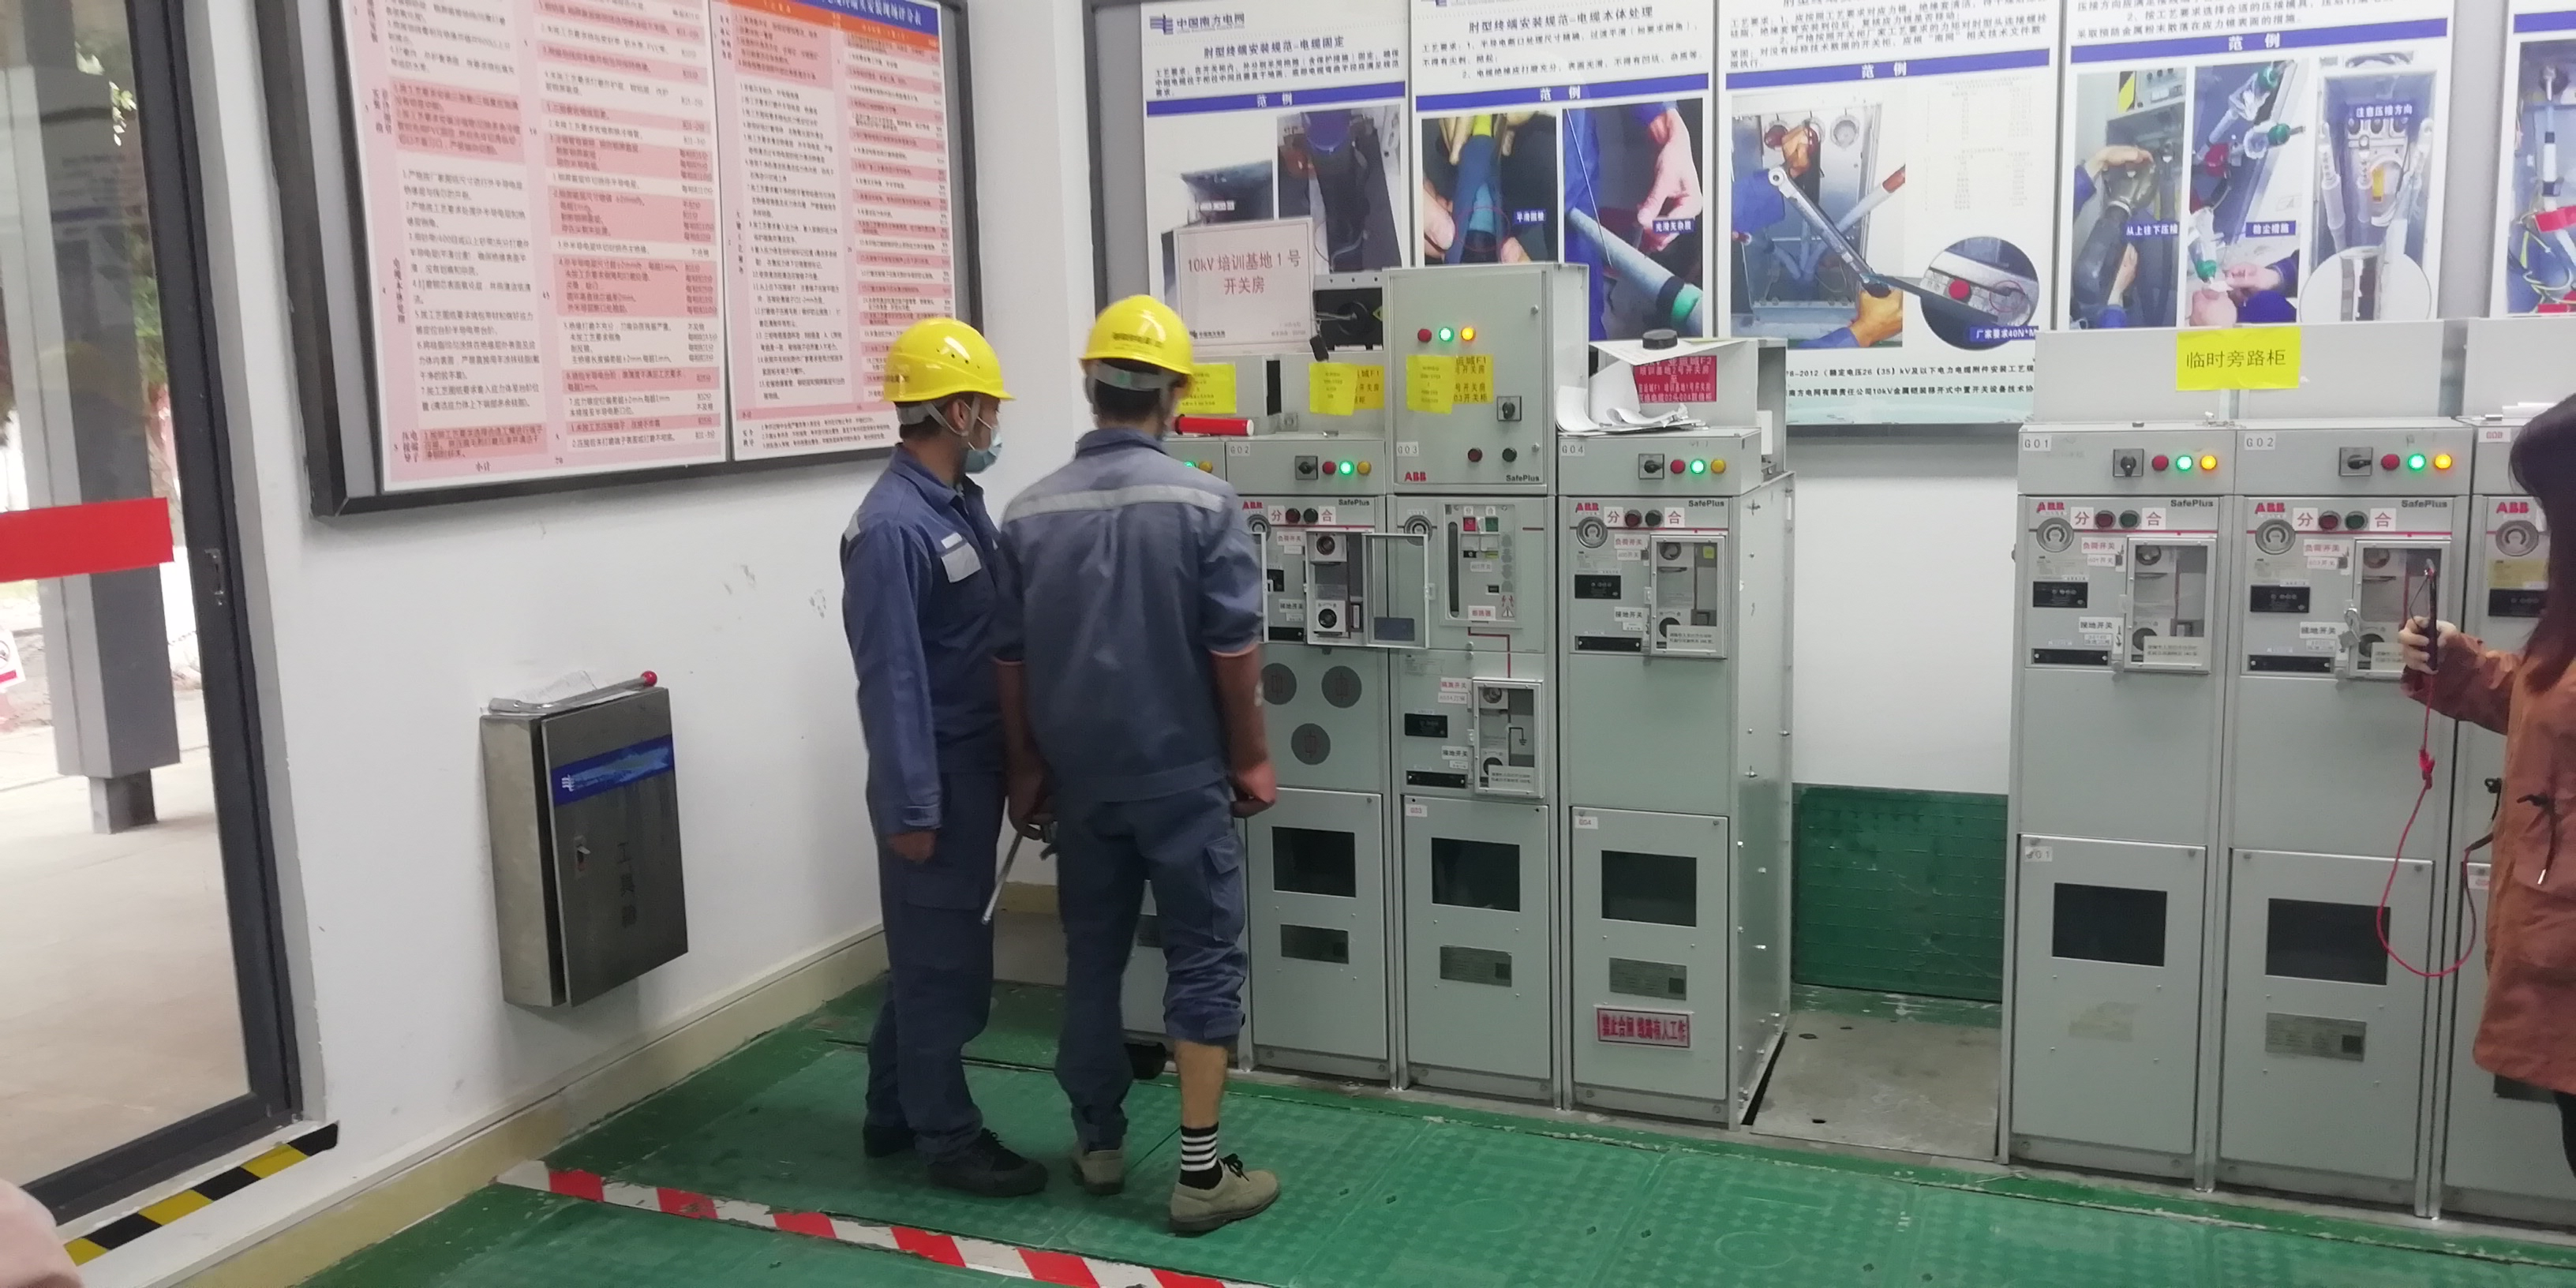downsuit: (1052, 814, 1251, 1153), (869, 794, 1000, 1123)
halt: (882, 318, 1013, 470), (1077, 297, 1197, 438)
hand: (2399, 611, 2464, 676)
inear: (923, 391, 988, 458)
longglove: (1205, 638, 1286, 821), (994, 661, 1058, 838)
person: (1022, 298, 1266, 1238), (826, 311, 1032, 1174), (2399, 392, 2576, 1180)
upcloth: (2399, 599, 2576, 1095)
upsuit: (1023, 437, 1251, 807), (844, 463, 1011, 784)
wrongbottom: (1163, 1020, 1247, 1175)
